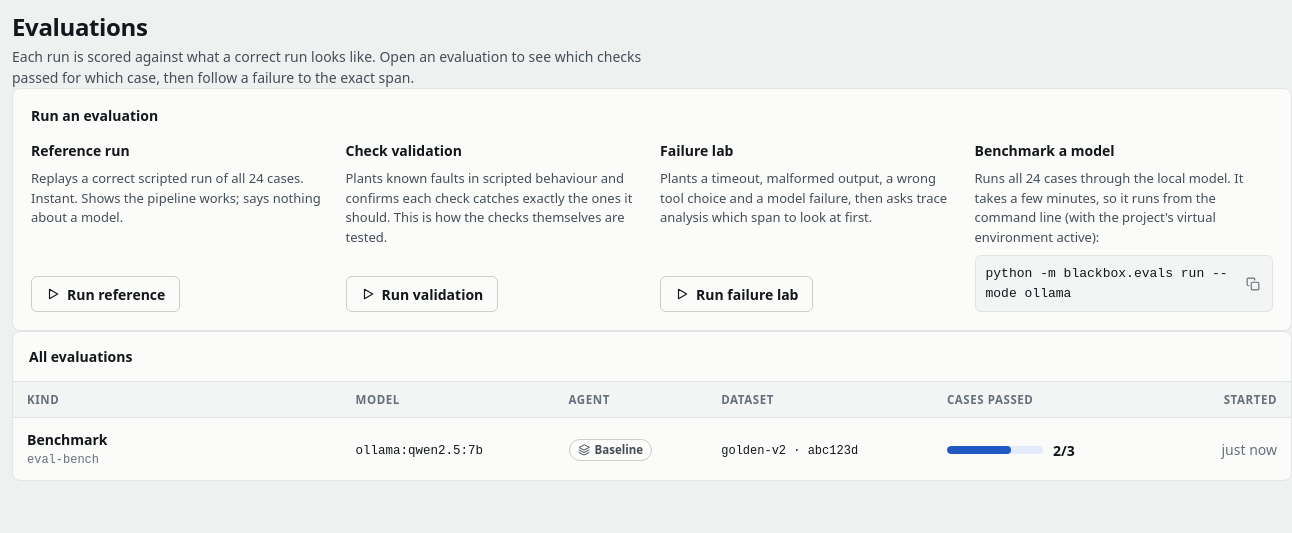
Test: EvalsPage › shows why a start failed
Click the button "Run reference": point(106, 294) left=31, top=276, right=180, bottom=312
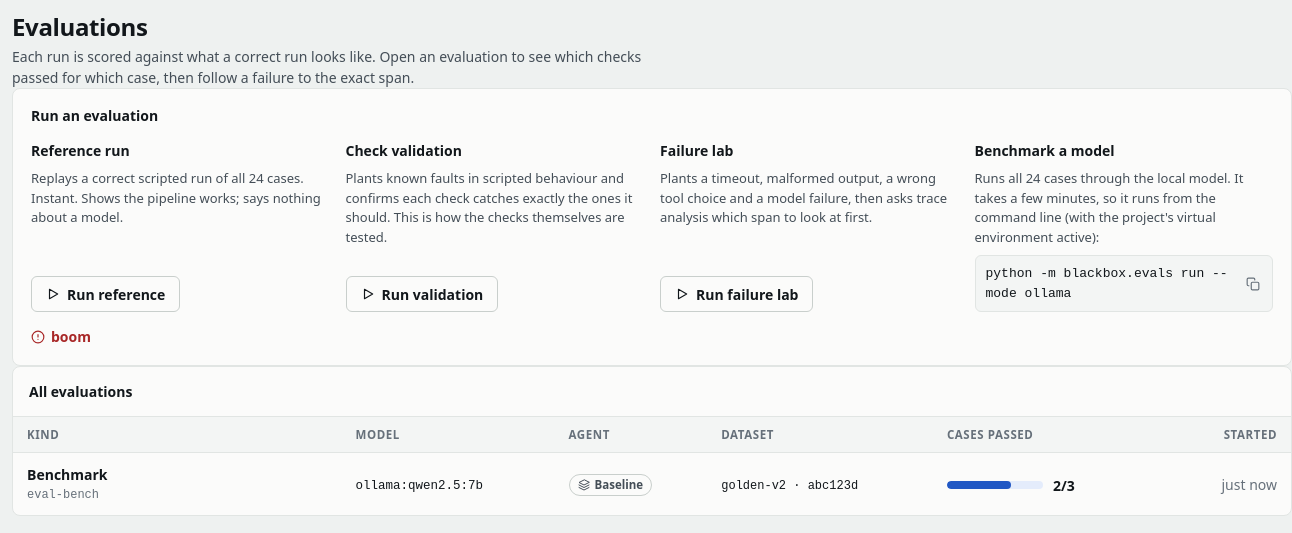
Check: the message reads "boom", box left=51, top=327, right=91, bottom=346
